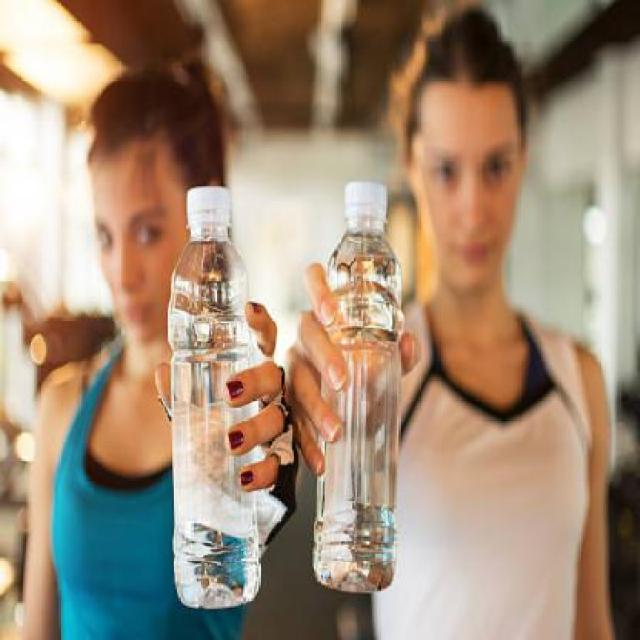Drinking: (168, 179, 275, 613), (315, 173, 410, 604)
